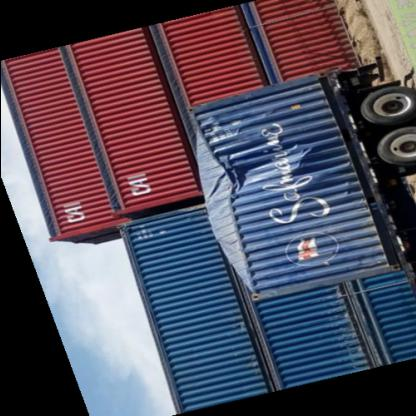Damage: (197, 106, 320, 302)
